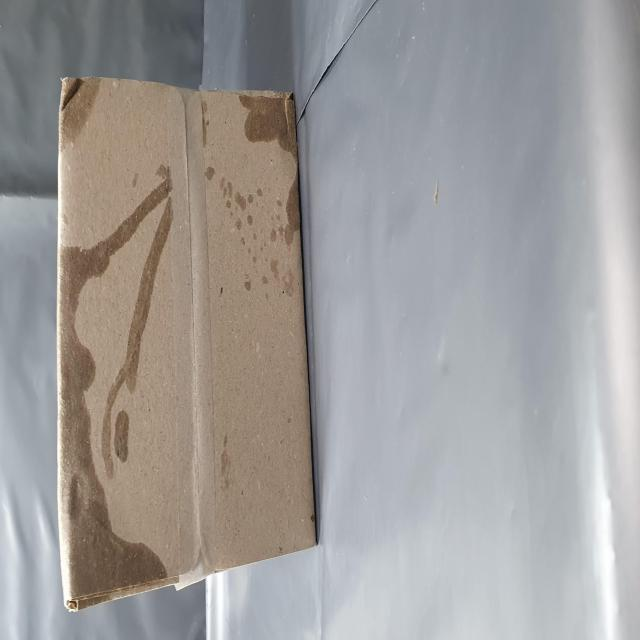wet: (19, 96, 225, 307), (218, 433, 309, 532), (265, 99, 318, 190)
